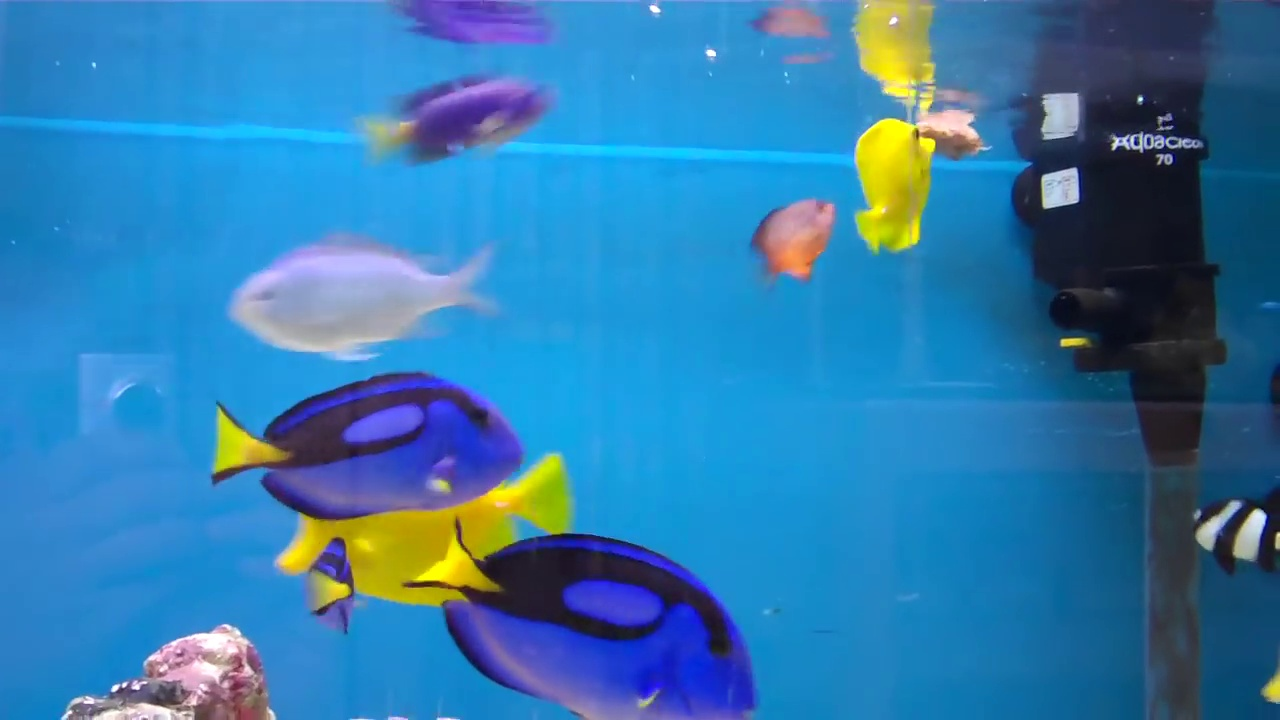blue tang surgeonfish: (439, 535, 753, 717), (198, 360, 536, 511)
saddle butterfly fish: (829, 117, 938, 240)
